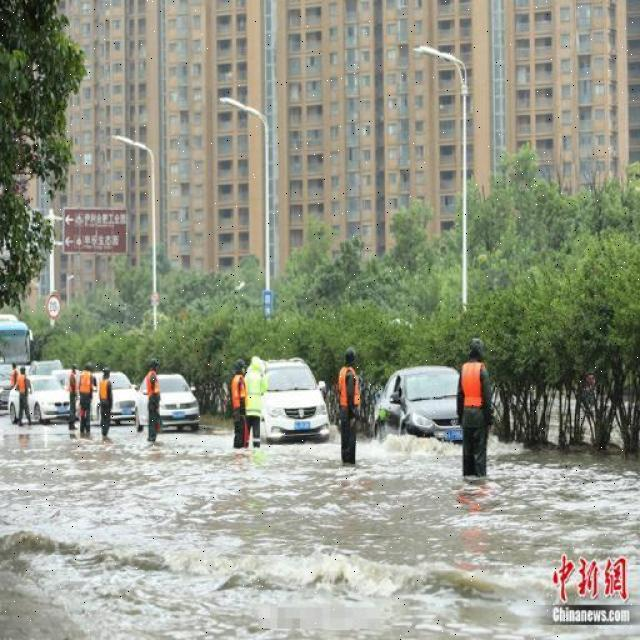rescuer: (451, 331, 509, 501), (331, 336, 386, 484), (218, 351, 251, 460), (140, 342, 170, 453), (244, 336, 270, 462), (73, 356, 99, 473), (97, 354, 115, 460), (65, 358, 84, 452)
